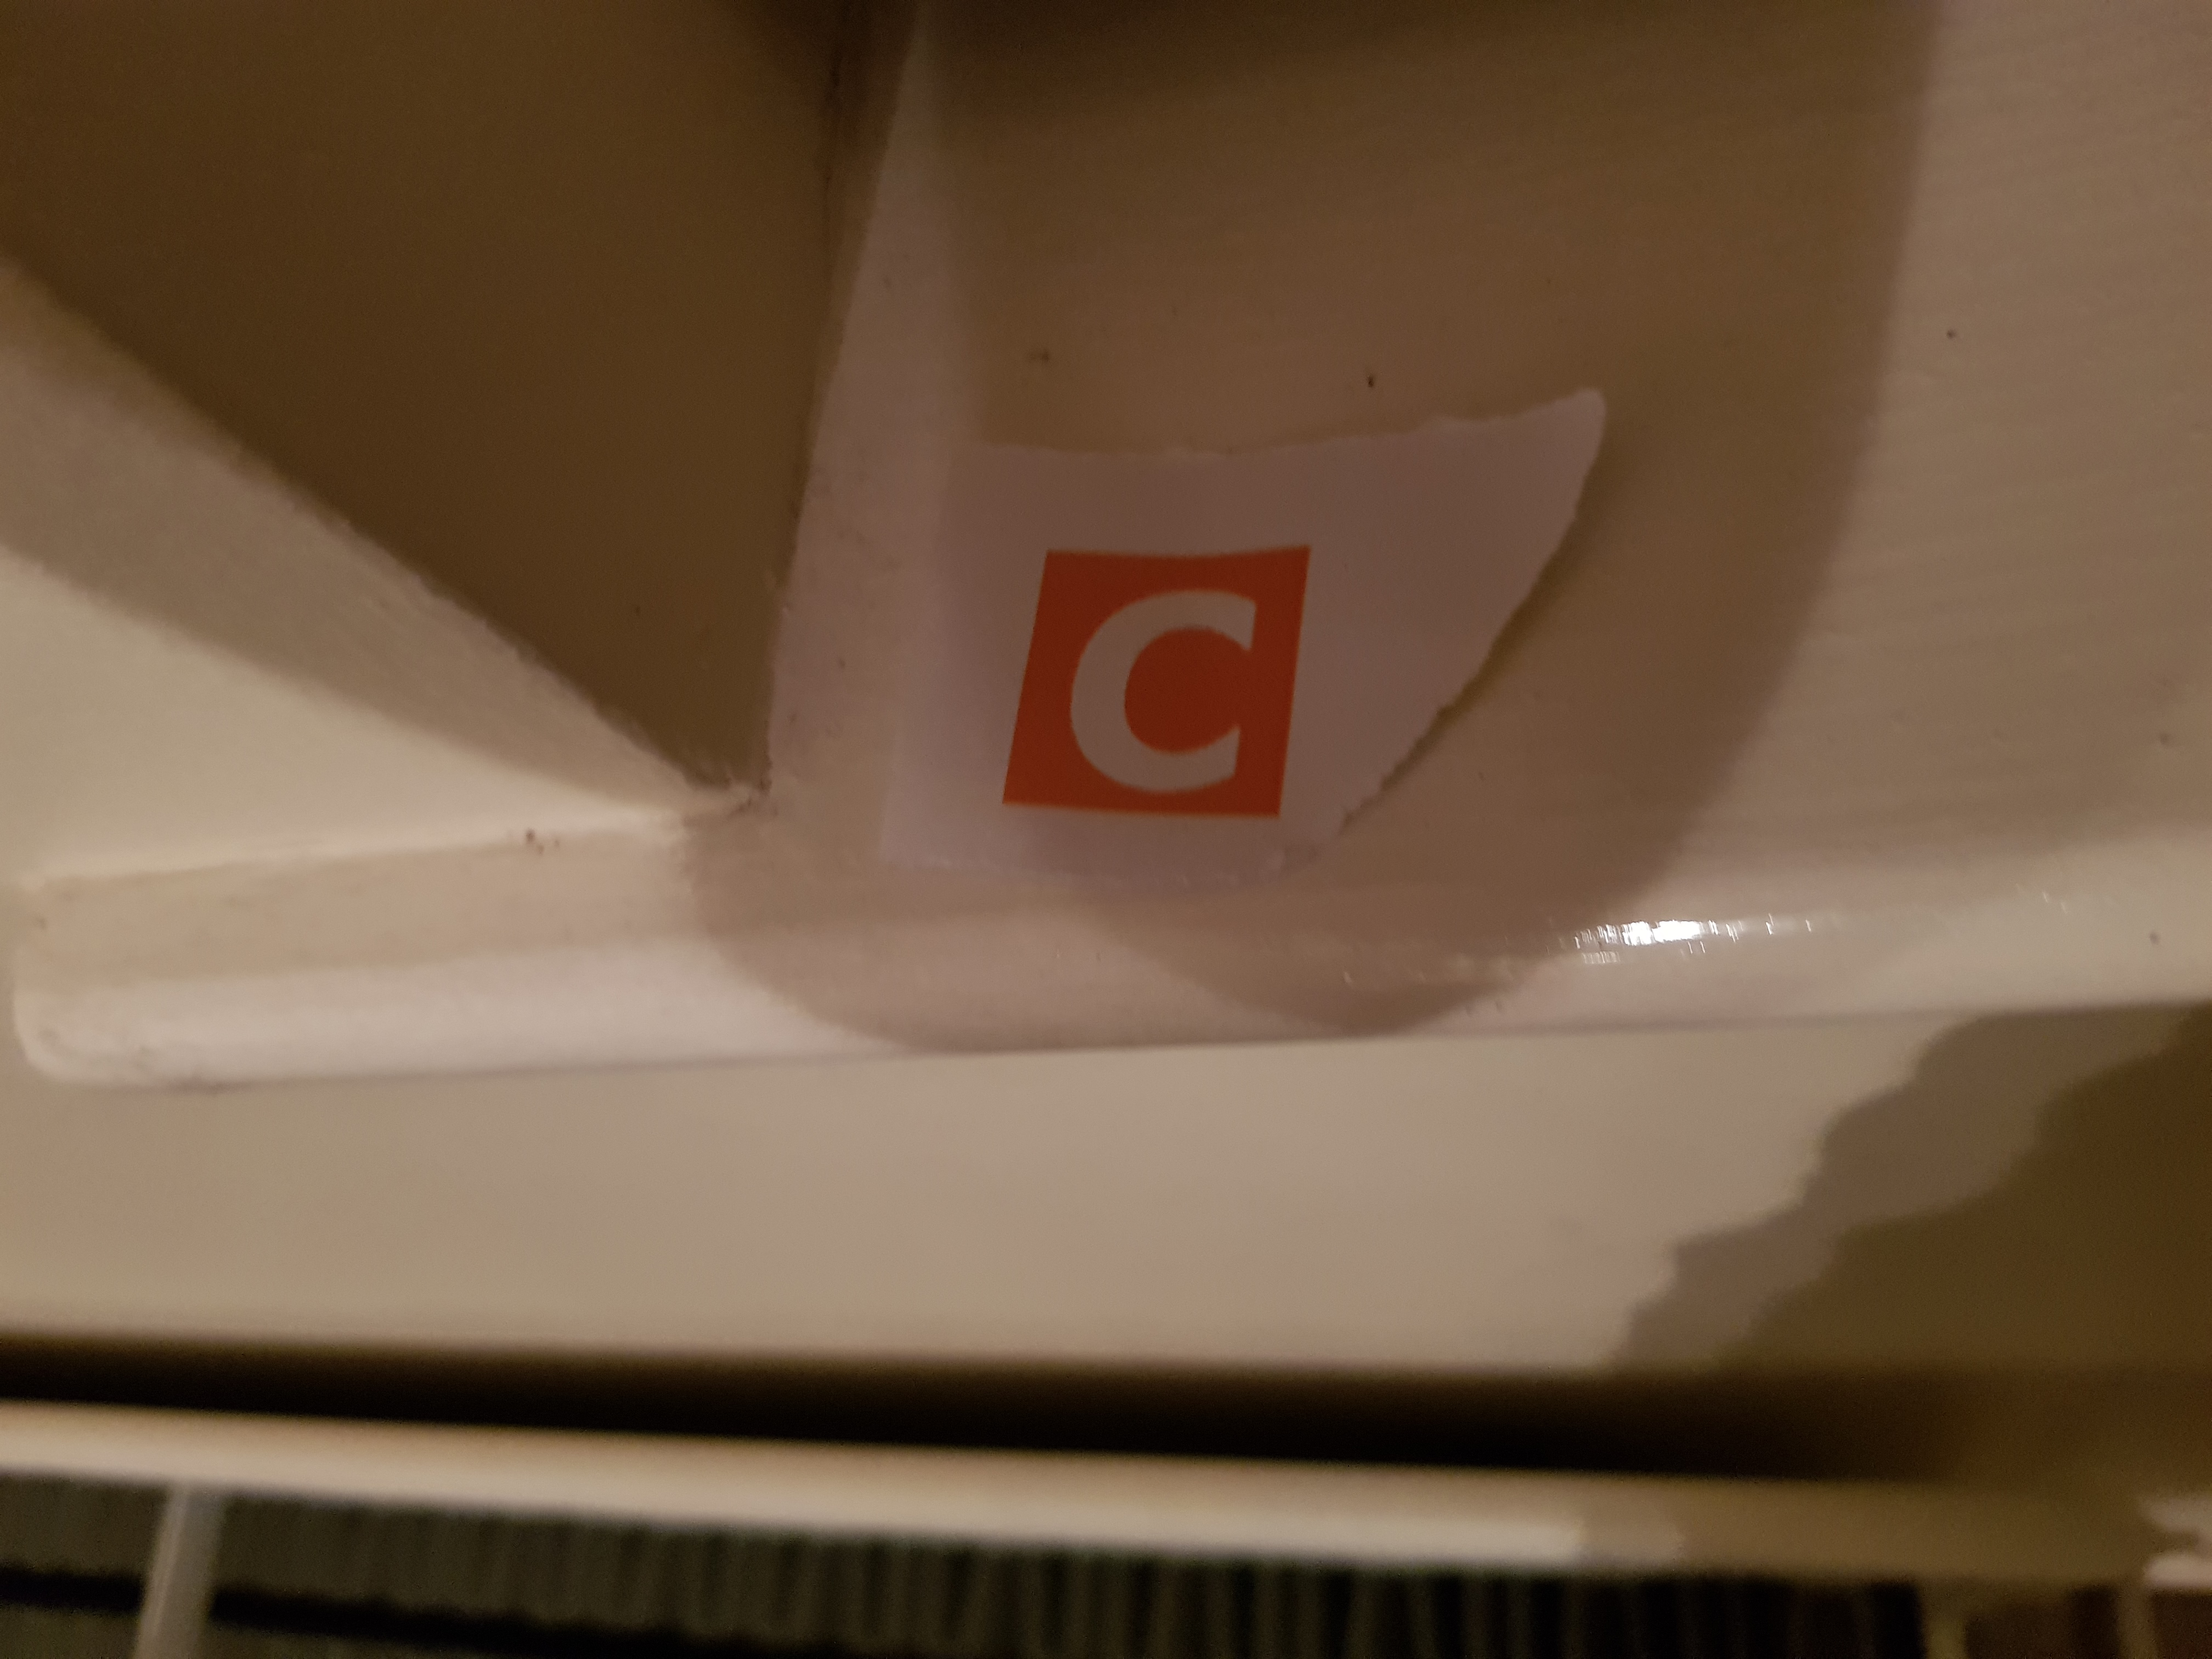marker: (909, 422, 1400, 899)
